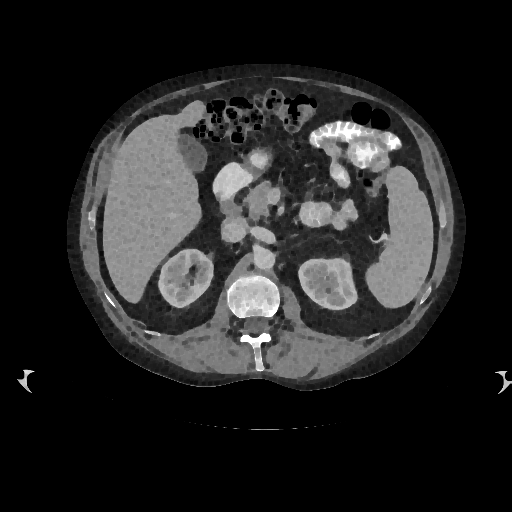Lesion: (204, 249, 218, 263)
